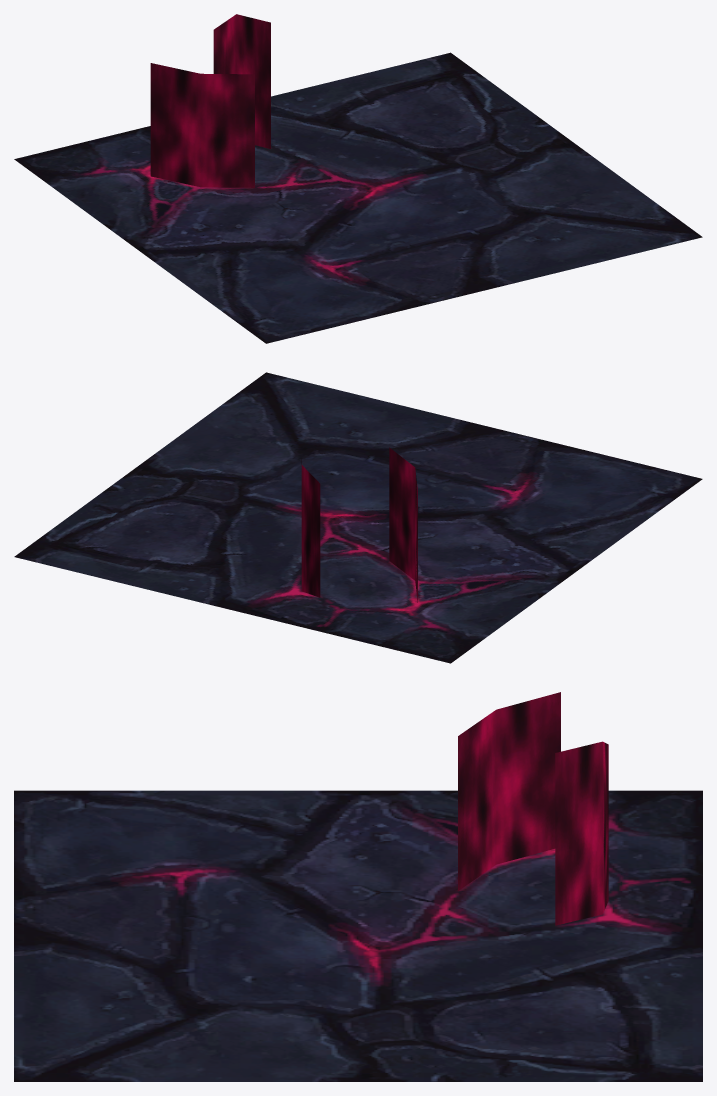
The model's file is palace_floor_blank_09.fbx.
3 views of the same model, one above another, from view 1: azimuth 30°, elevation 25°; view 2: azimuth 150°, elevation 25°; view 3: azimuth 270°, elevation 25° (orthographic). The views are drawn at different scales.
Parts seen in each view (by area): view 1: palace_floor_blank_09-0; view 2: palace_floor_blank_09-0; view 3: palace_floor_blank_09-0.
Boxes of the visible parts, x1,y1,x2,y2 form: palace_floor_blank_09-0: [14, 14, 702, 343]; palace_floor_blank_09-0: [14, 372, 702, 663]; palace_floor_blank_09-0: [14, 692, 702, 1081].
Size of the model in its own units: 4 by 1.11 by 4.
